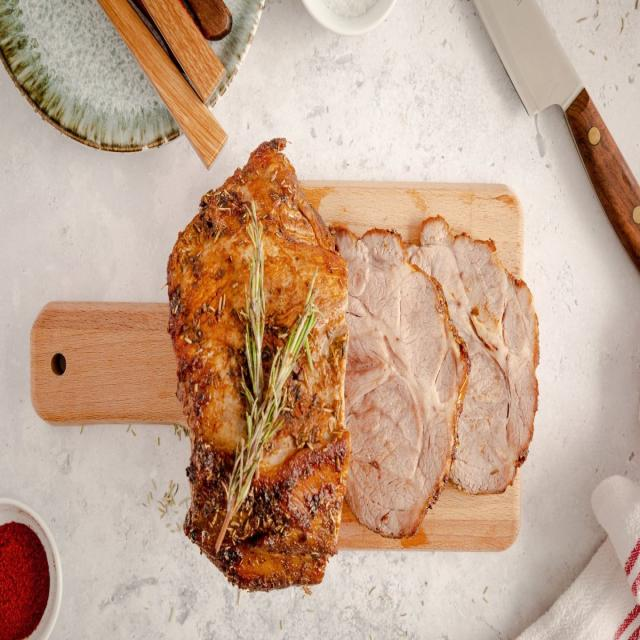carne de cerdo: (158, 132, 356, 606), (326, 210, 470, 548), (406, 212, 543, 503)
